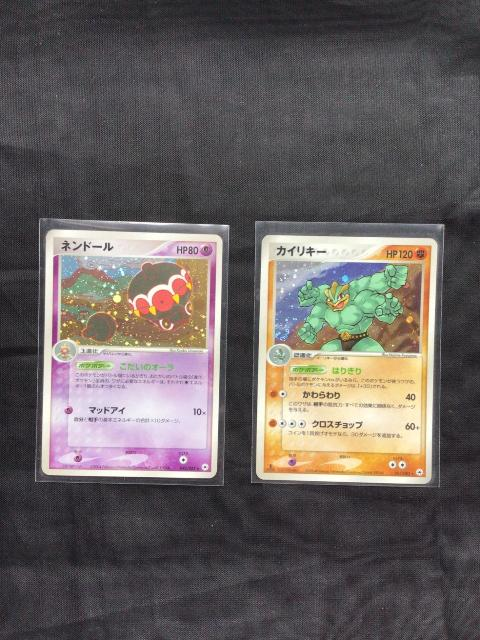Card: (255, 233, 441, 487), (40, 226, 225, 481)
Name: (270, 242, 331, 259), (60, 238, 117, 255)
